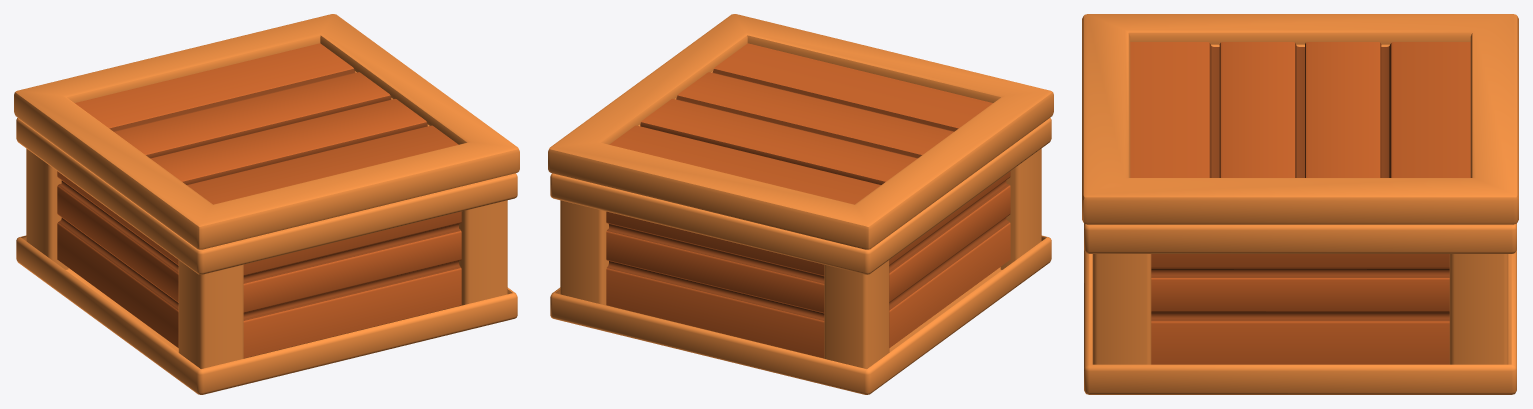
Rendered from SM_Ingrident_Box.fbx.
3 renders of one model, left to right at view 1: azimuth 30°, elevation 25°; view 2: azimuth 150°, elevation 25°; view 3: azimuth 270°, elevation 25°, orthographic. The views are drawn at different scales.
Parts seen in each view (by area): view 1: Ingrident_Box, Ingrident_Box_Top; view 2: Ingrident_Box, Ingrident_Box_Top; view 3: Ingrident_Box_Top, Ingrident_Box.
Part boxes in pixels (left/top/right/bottom): Ingrident_Box: left=16, top=118, right=517, bottom=394; Ingrident_Box_Top: left=14, top=14, right=519, bottom=249; Ingrident_Box: left=550, top=118, right=1051, bottom=394; Ingrident_Box_Top: left=548, top=14, right=1053, bottom=249; Ingrident_Box_Top: left=1082, top=14, right=1518, bottom=224; Ingrident_Box: left=1084, top=223, right=1516, bottom=394.
Size of the model in its own units: 200 by 102 by 200.
